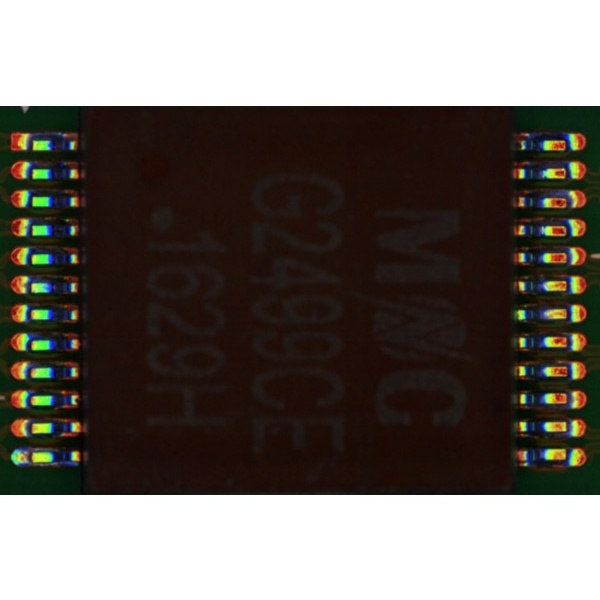Bad_podu: (23, 453, 37, 461)
Bad_qiaojiao: (33, 462, 79, 466), (31, 446, 63, 451)
